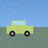vehicle: (7, 21, 33, 36)
